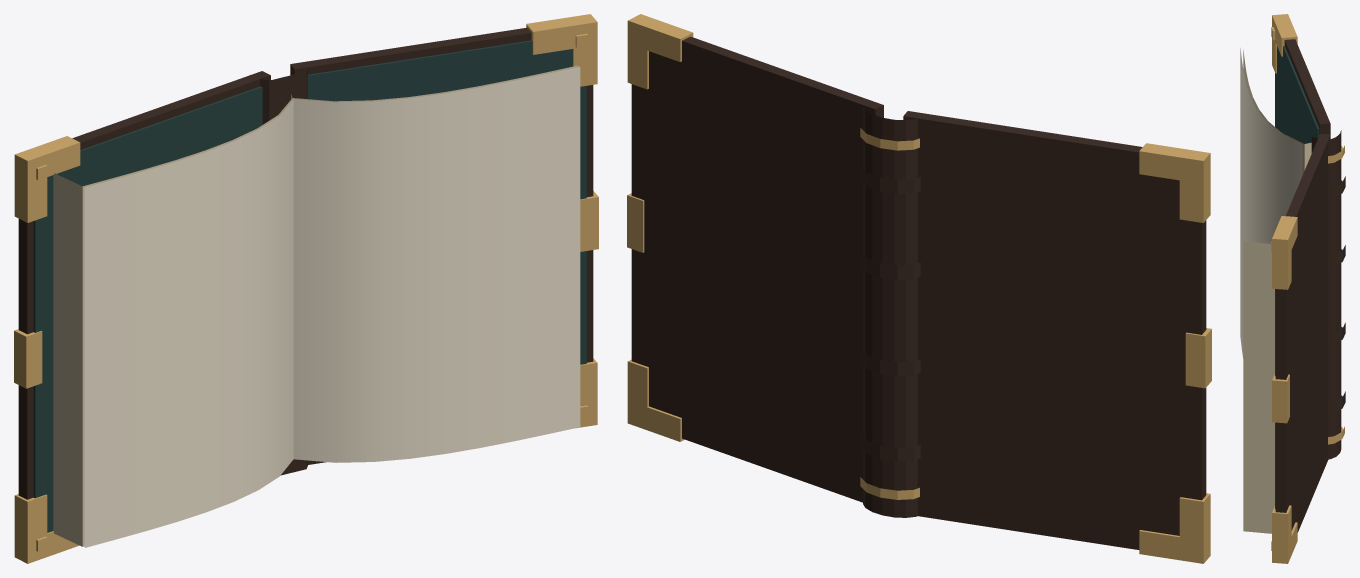
Rendered from grimorio.glb.
3 renders of one model, left to right at view 1: azimuth 30°, elevation 25°; view 2: azimuth 150°, elevation 25°; view 3: azimuth 270°, elevation 25°, orthographic. The views are drawn at different scales.
Visible parts, largest first — view 1: pagina-direita, pagina-esquerda, guarda-interna, capa-couro, cantoneiras-latao, bloco-paginas; view 2: capa-couro, cantoneiras-latao; view 3: capa-couro, bloco-paginas, pagina-esquerda, cantoneiras-latao, guarda-interna.
Boxes of the visible parts, x1,y1,x2,y2 form: pagina-direita: (293,67,580,462); pagina-esquerda: (84,99,293,547); guarda-interna: (33,40,586,532); capa-couro: (18,27,593,499); cantoneiras-latao: (14,14,598,563); bloco-paginas: (53,65,578,546); capa-couro: (631,36,1206,549); cantoneiras-latao: (627,14,1211,563); capa-couro: (1275,39,1345,532); bloco-paginas: (1243,50,1311,533); pagina-esquerda: (1240,48,1302,358); cantoneiras-latao: (1271,14,1344,563); guarda-interna: (1275,46,1319,509).
Size of the model in its own units: 0.3257 by 0.2168 by 0.0638.
